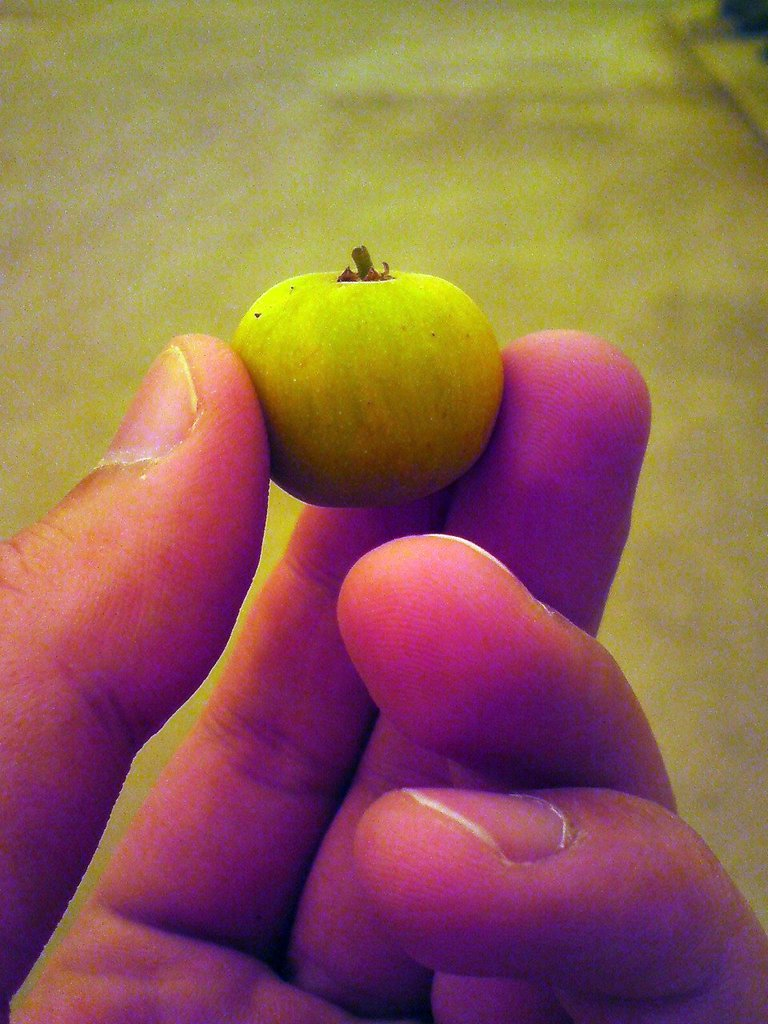Apple: (231, 243, 503, 510)
